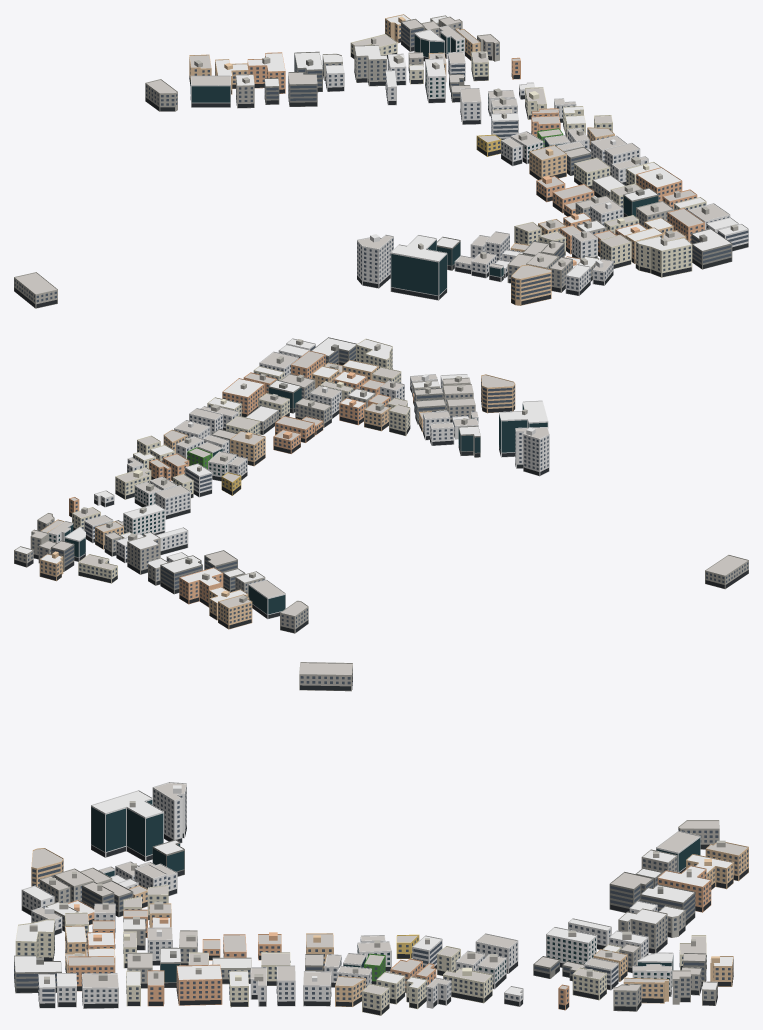
The picture shows the model from 3 angles, top to bottom: view 1: azimuth 30°, elevation 25°; view 2: azimuth 150°, elevation 25°; view 3: azimuth 270°, elevation 25°; orthographic projection. The views are drawn at different scales.
Parts seen in each view (by area): view 1: a2_e; view 2: a2_e; view 3: a2_e.
Boxes of the visible parts, <box> form: a2_e: <box>14,14,748,308</box>; a2_e: <box>14,337,748,633</box>; a2_e: <box>14,662,748,1015</box>.
Bounding box in the file's own units: 457 × 30.6 × 420.
